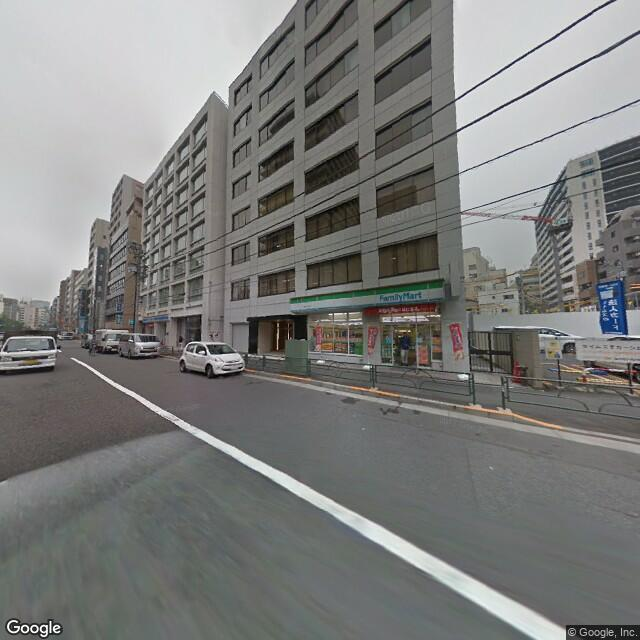family_mart: (289, 274, 452, 319), (378, 288, 427, 307)
